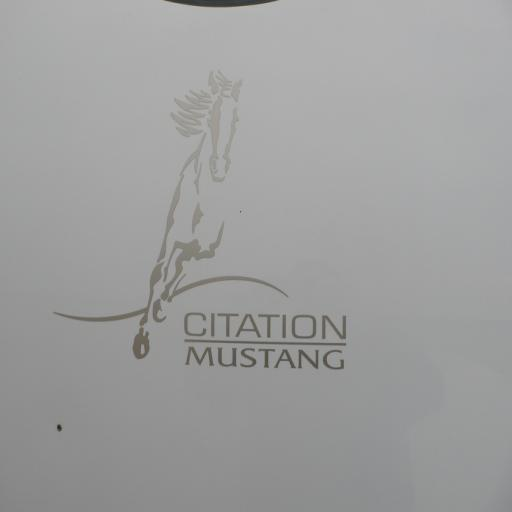horse: (131, 69, 244, 361)
